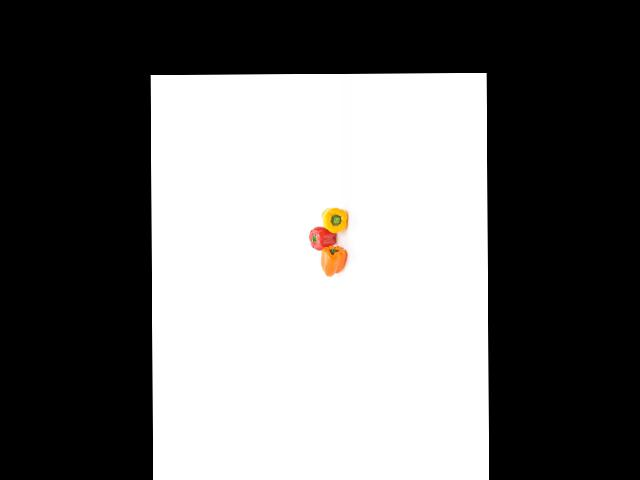bell_pepper: (320, 205, 348, 236)
